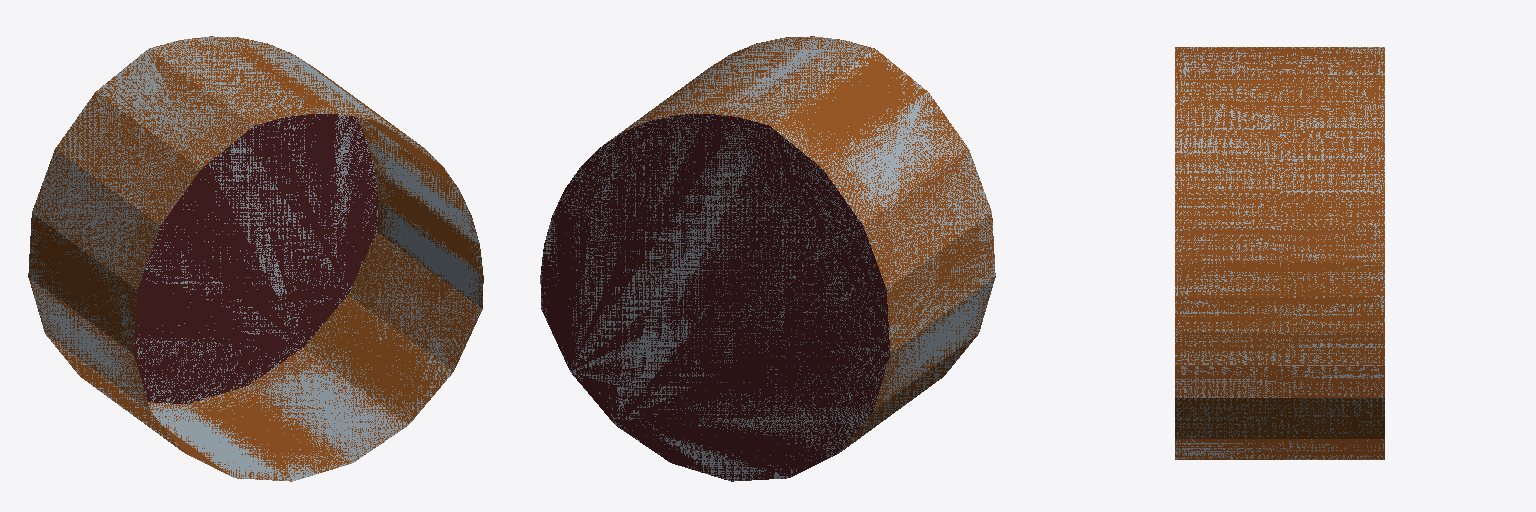
The model's file is billiards_hole.obj.
3 views of the same model, side by side, from view 1: azimuth 30°, elevation 25°; view 2: azimuth 150°, elevation 25°; view 3: azimuth 270°, elevation 25° (orthographic).
Parts seen in each view (by area): view 1: Mesh1 Model; view 2: Mesh1 Model; view 3: Mesh1 Model.
Boxes of the visible parts, <box> form: Mesh1 Model: <box>28,36,483,481</box>; Mesh1 Model: <box>540,36,995,481</box>; Mesh1 Model: <box>1175,47,1384,459</box>.
Bounding box in the file's own units: 0.287 × 0.287 × 0.1498.